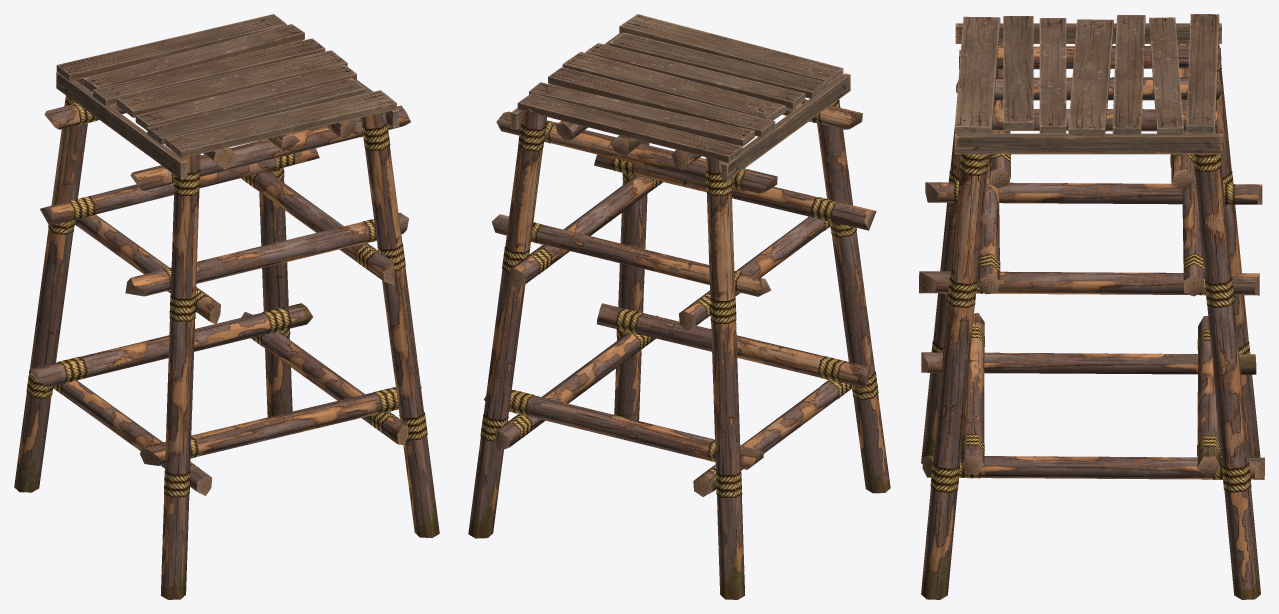
The model's file is tower_bottom_6m_B.fbx.
3 views of the same model, side by side, from view 1: azimuth 30°, elevation 25°; view 2: azimuth 150°, elevation 25°; view 3: azimuth 270°, elevation 25° (orthographic). The views are drawn at different scales.
Visible parts, largest first — view 1: tower_bottom_6m_B; view 2: tower_bottom_6m_B; view 3: tower_bottom_6m_B.
Boxes of the visible parts, x1,y1,x2,y2 form: tower_bottom_6m_B: (14, 14, 439, 599); tower_bottom_6m_B: (468, 14, 890, 599); tower_bottom_6m_B: (919, 14, 1264, 599).
Bounding box in the file's own units: 415 × 600 × 411.
